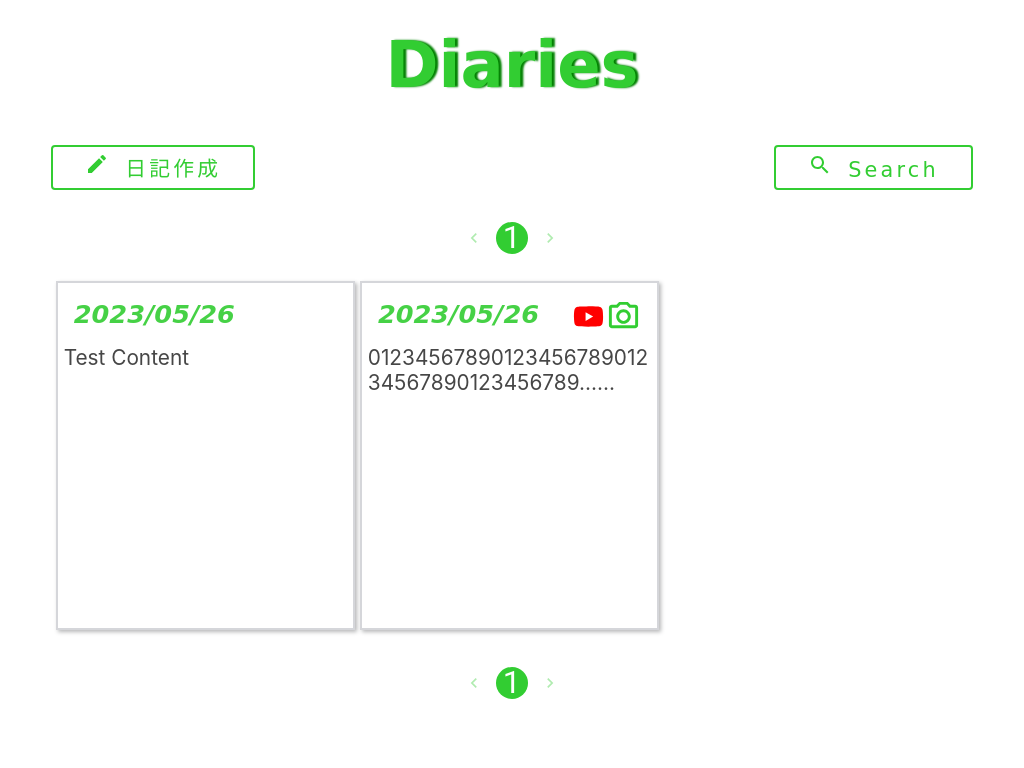
Test case: LoginHome › DiaryDialog初期値(タグなし, 画像なし, 動画urlなし) › MenuBarの編集クリックで編集用画面に変更
The width and height of the screenshot is (1024, 768).
(page scrolled)
Click the list item with test id "diary-0".
click(205, 455)  # box [56,280,355,630]
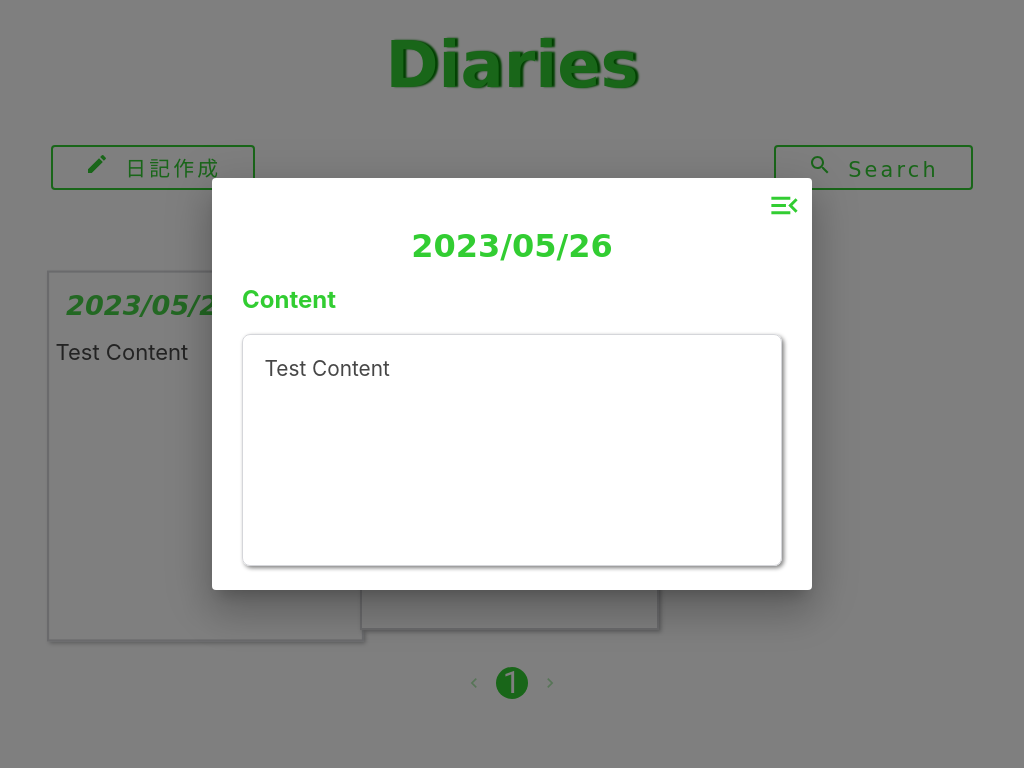
Click the element with test id "menuOpenIcon".
click(785, 205)  # box [767,188,802,223]
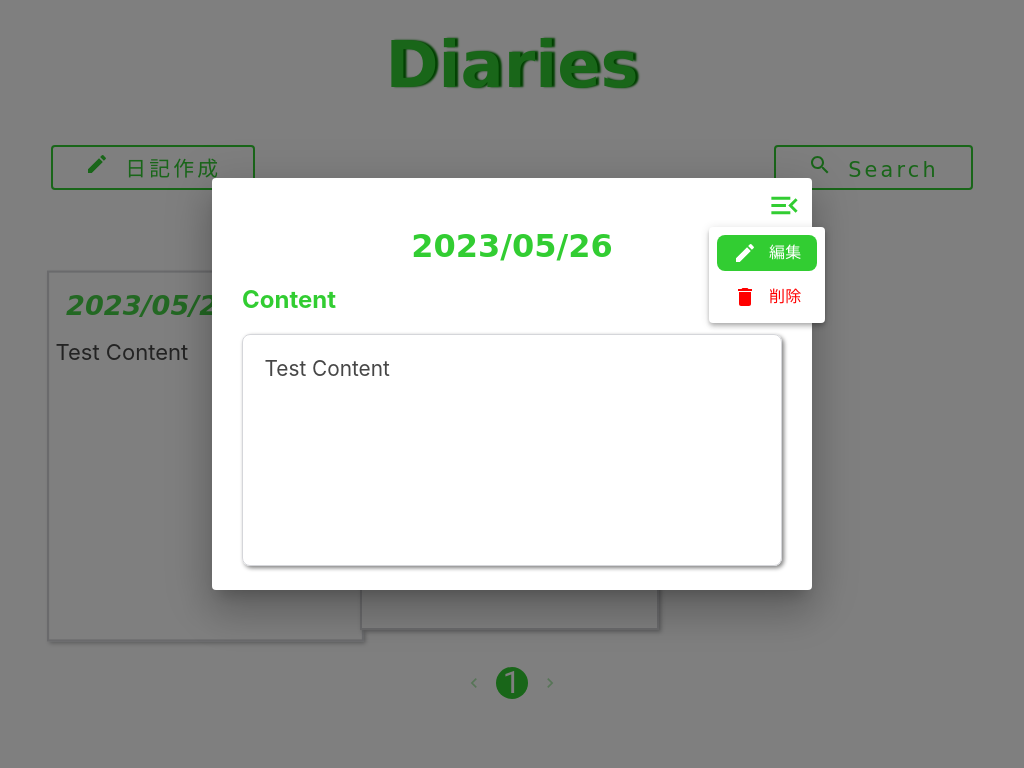
Click the menu item with test id "MenuItemDiaryEdit".
click(767, 253)  # box [717,235,817,271]
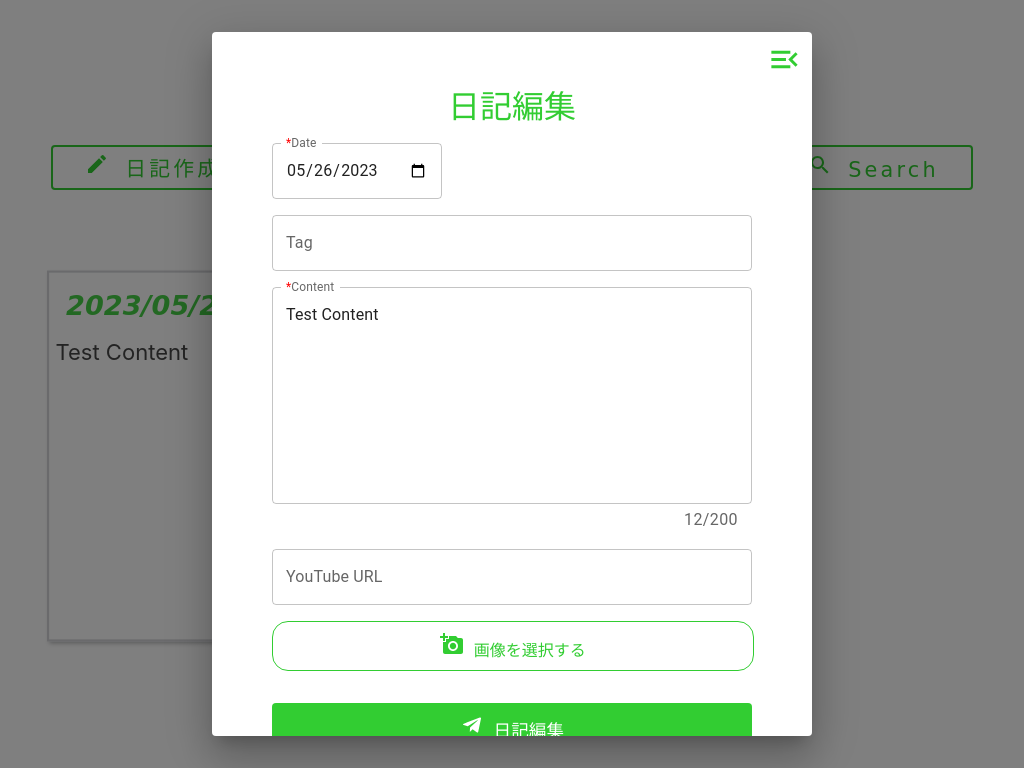
Result: the heading with test id "diaryEditTitle" reads "日記編集" at [448,88,576,126]
